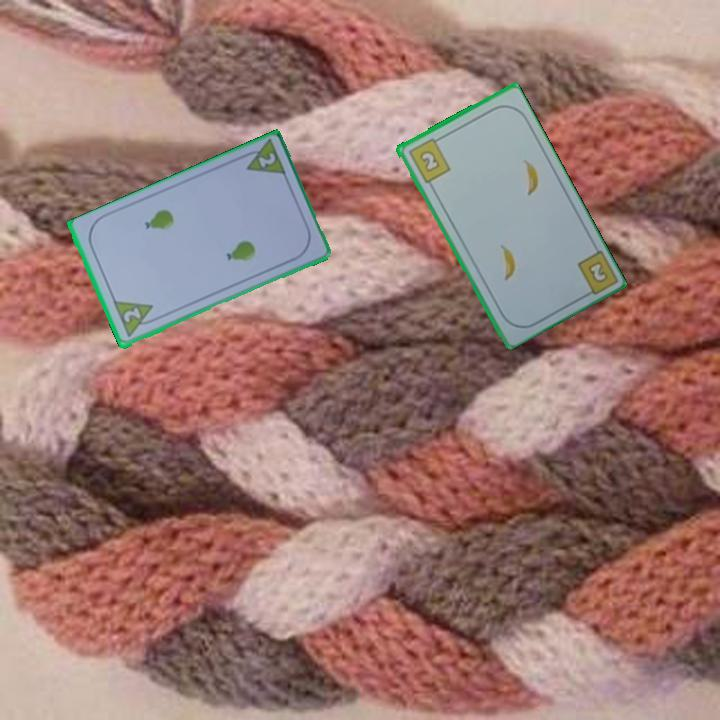2b: (405, 133, 453, 186), (573, 246, 619, 301)
2p: (119, 304, 144, 326), (254, 149, 278, 171)
